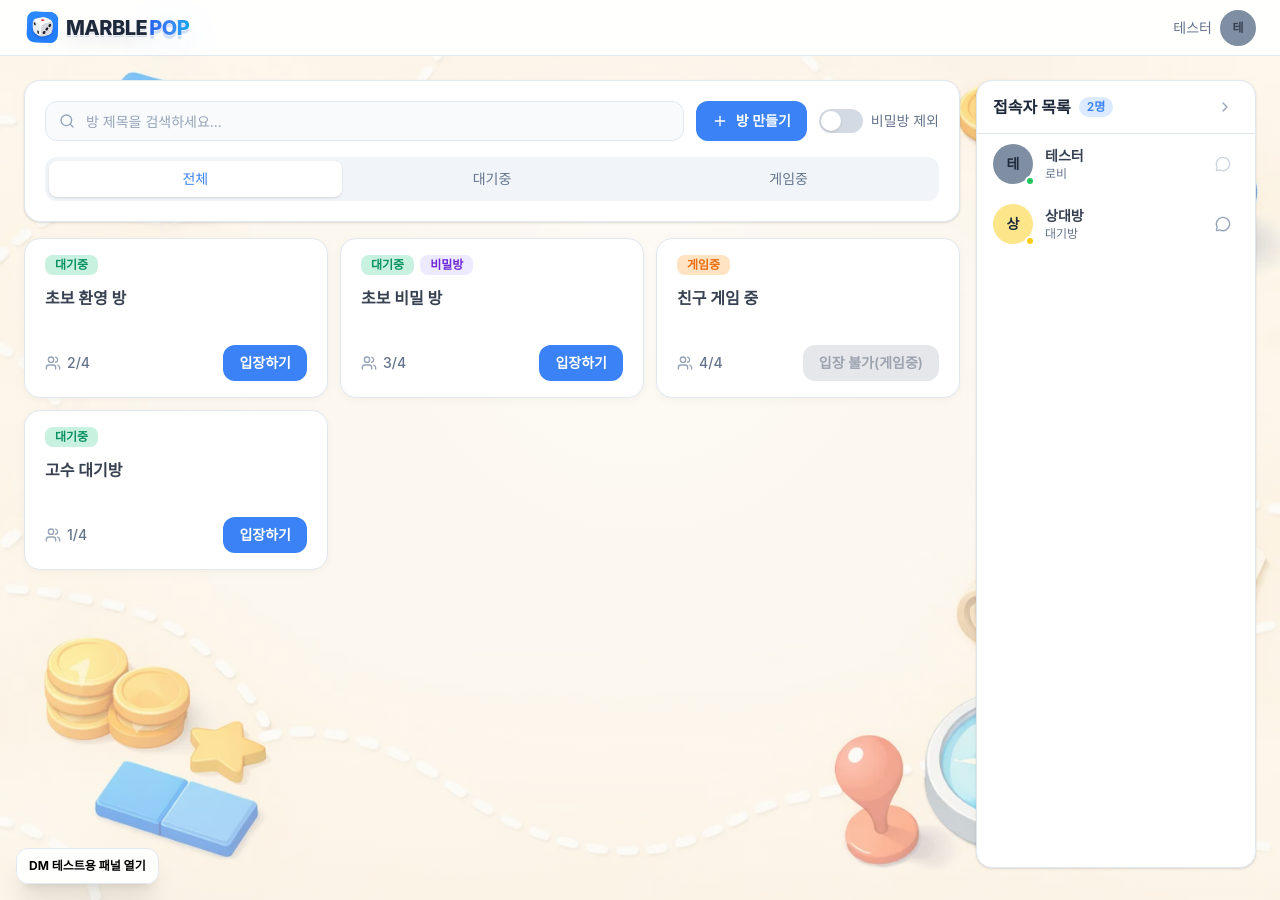
it: LobbyPage filter and toggle regression › 비밀방 제외 토글을 다시 끄면 비밀방 카드가 복구된다
The image size is (1280, 900).
Click the switch at x=841, y=121, box x1=819 y1=109 x2=863 y2=133
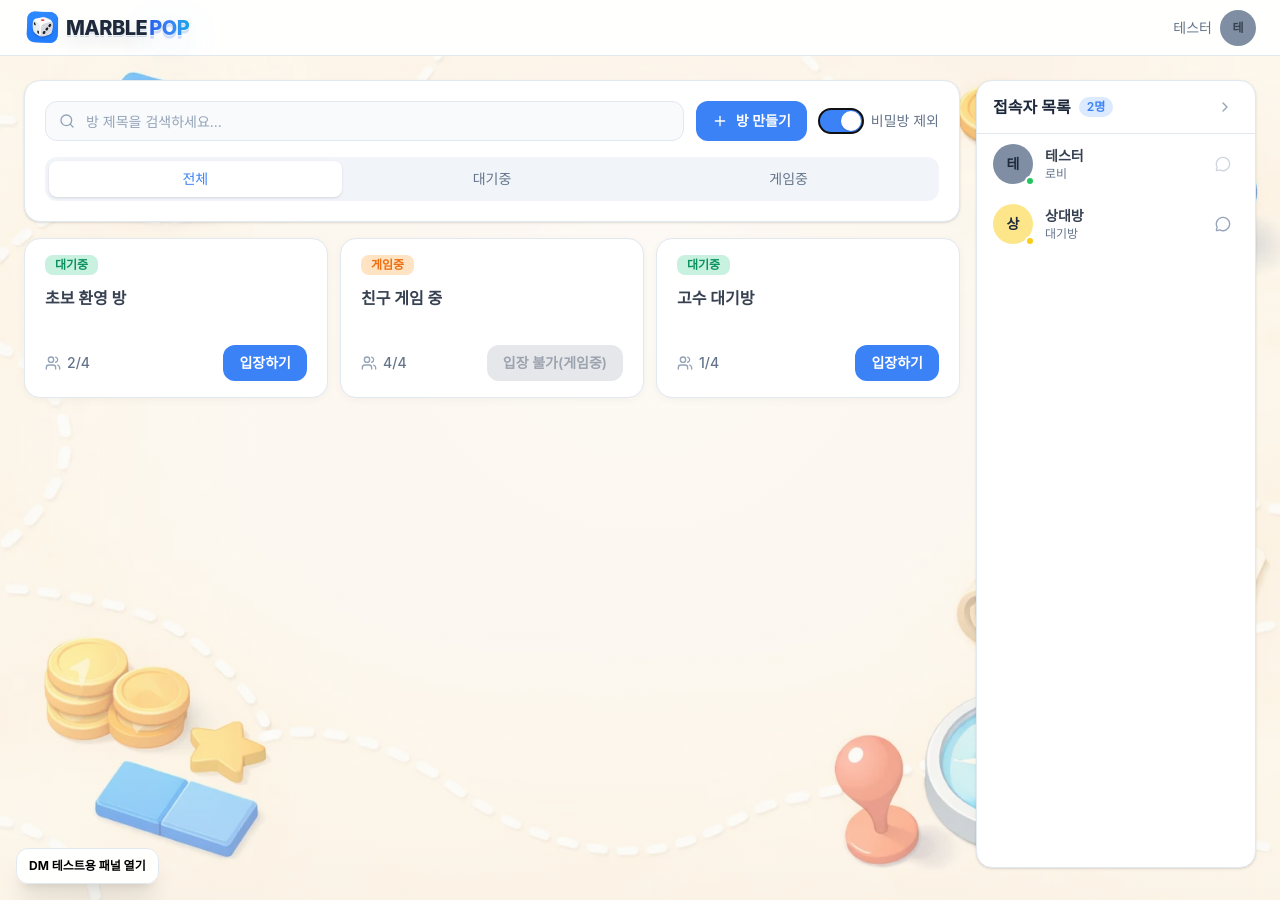
Check: the heading "초보 비밀 방" is gone
Click the switch at x=841, y=121, box x1=819 y1=109 x2=863 y2=133
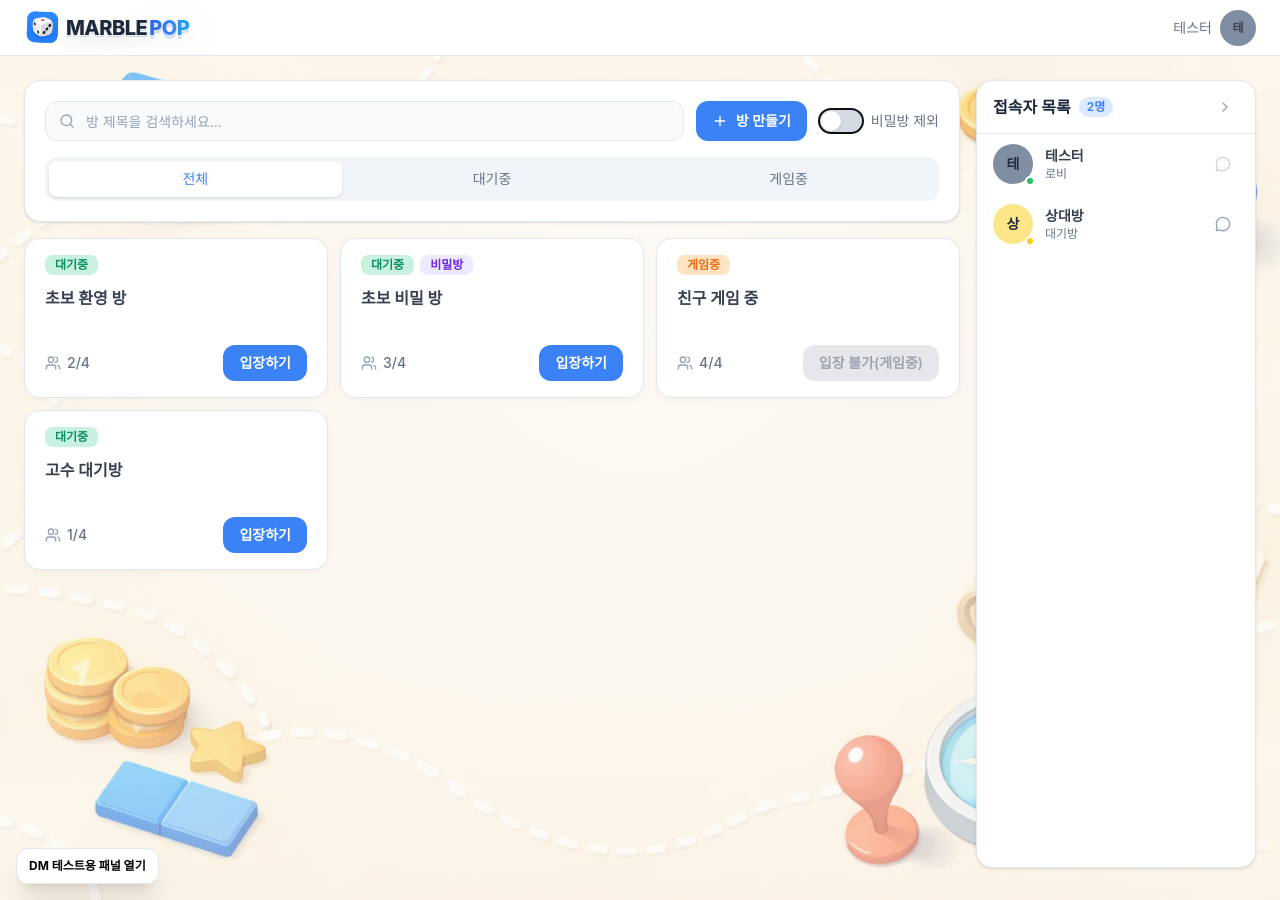
Check: the heading "초보 비밀 방" is shown, box x1=361 y1=288 x2=442 y2=308
